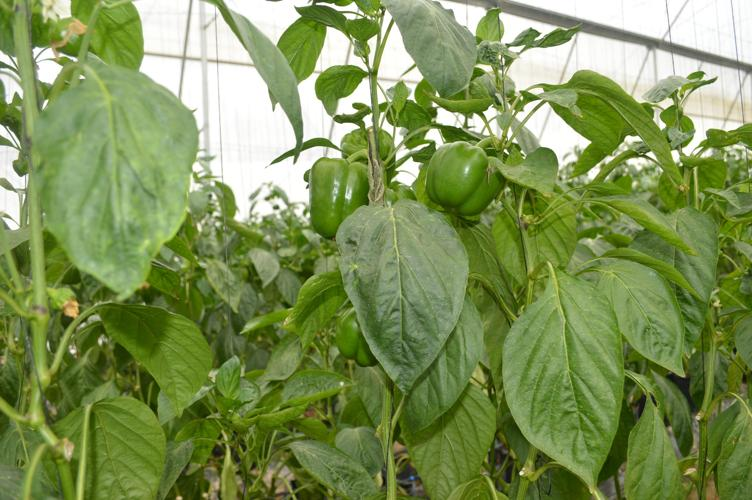BellPepper: (416, 131, 514, 238), (303, 149, 399, 246), (322, 310, 382, 376)
